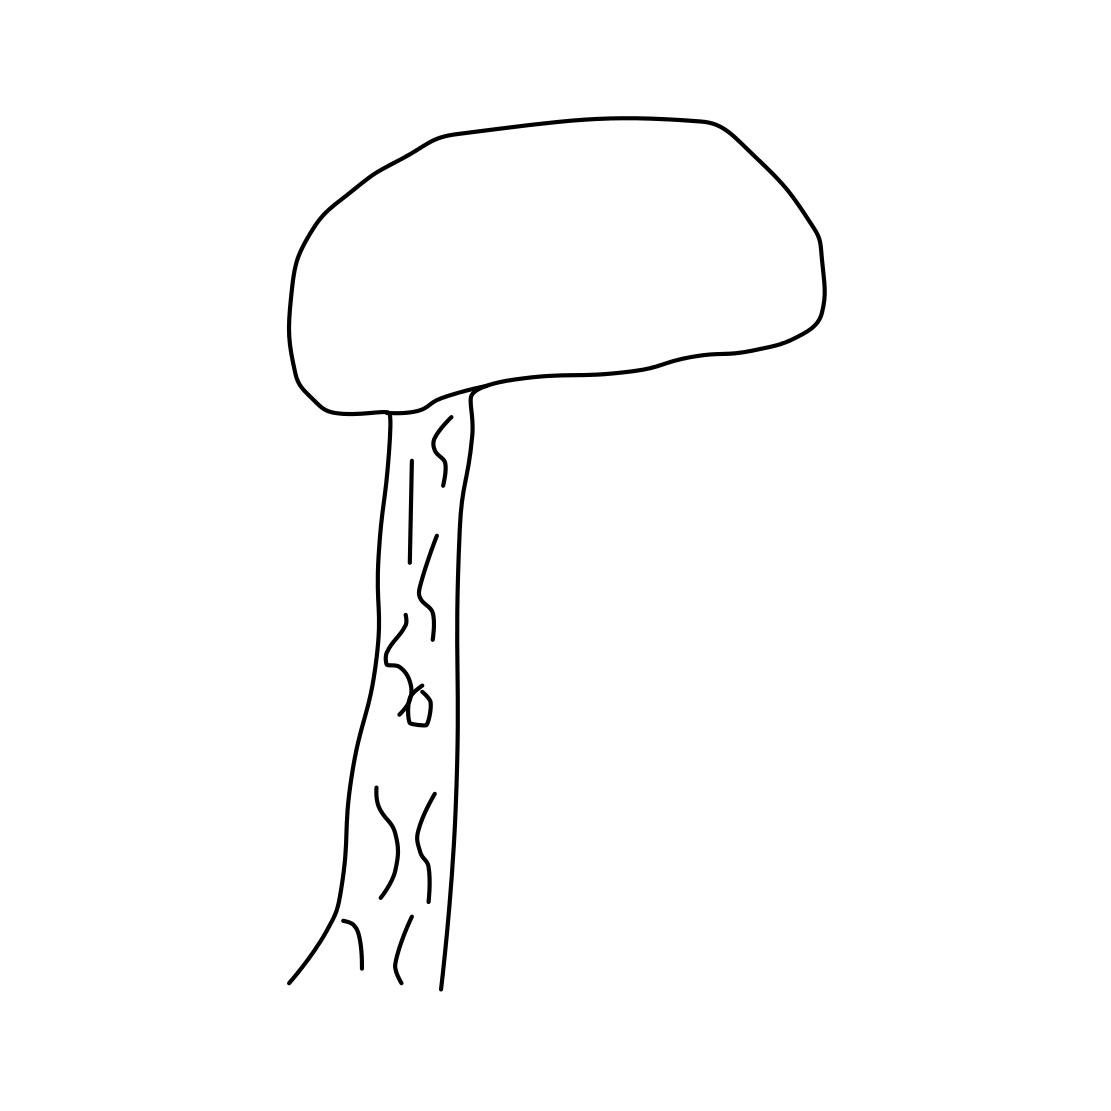Tree: (229, 70, 867, 1007)
